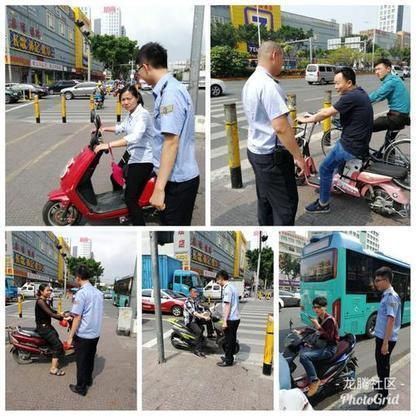target: (293, 66, 409, 226), (43, 84, 157, 225), (279, 297, 355, 399), (6, 284, 75, 379), (168, 284, 223, 358)
